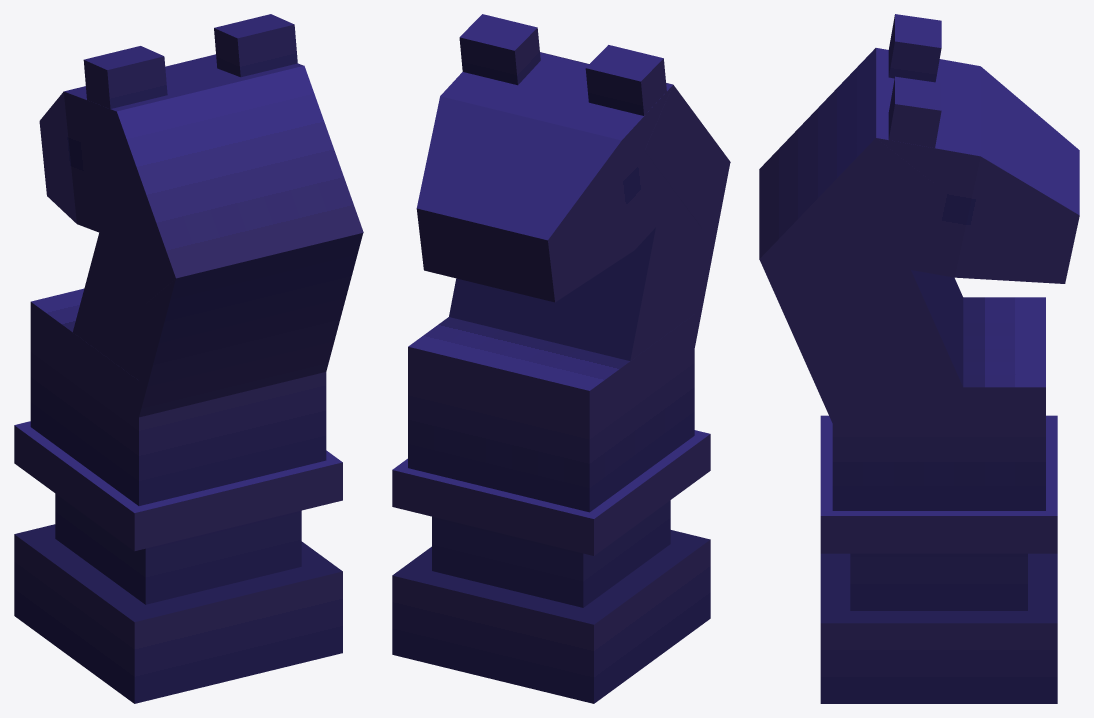
Rendered from Knight Black.gltf.
3 renders of one model, left to right at view 1: azimuth 30°, elevation 25°; view 2: azimuth 150°, elevation 25°; view 3: azimuth 270°, elevation 25°, orthographic. The views are drawn at different scales.
Parts seen in each view (by area): view 1: cube (×9); view 2: cube (×9); view 3: cube (×9).
Part boxes in pixels (box(x1,y1,x2,y2)): cube (×9): box(14, 14, 363, 703); cube (×9): box(392, 14, 730, 703); cube (×9): box(759, 14, 1079, 703).
Size of the model in its own units: 0.125 by 0.346 by 0.169.
Materials: 1 (1 with a texture image).
